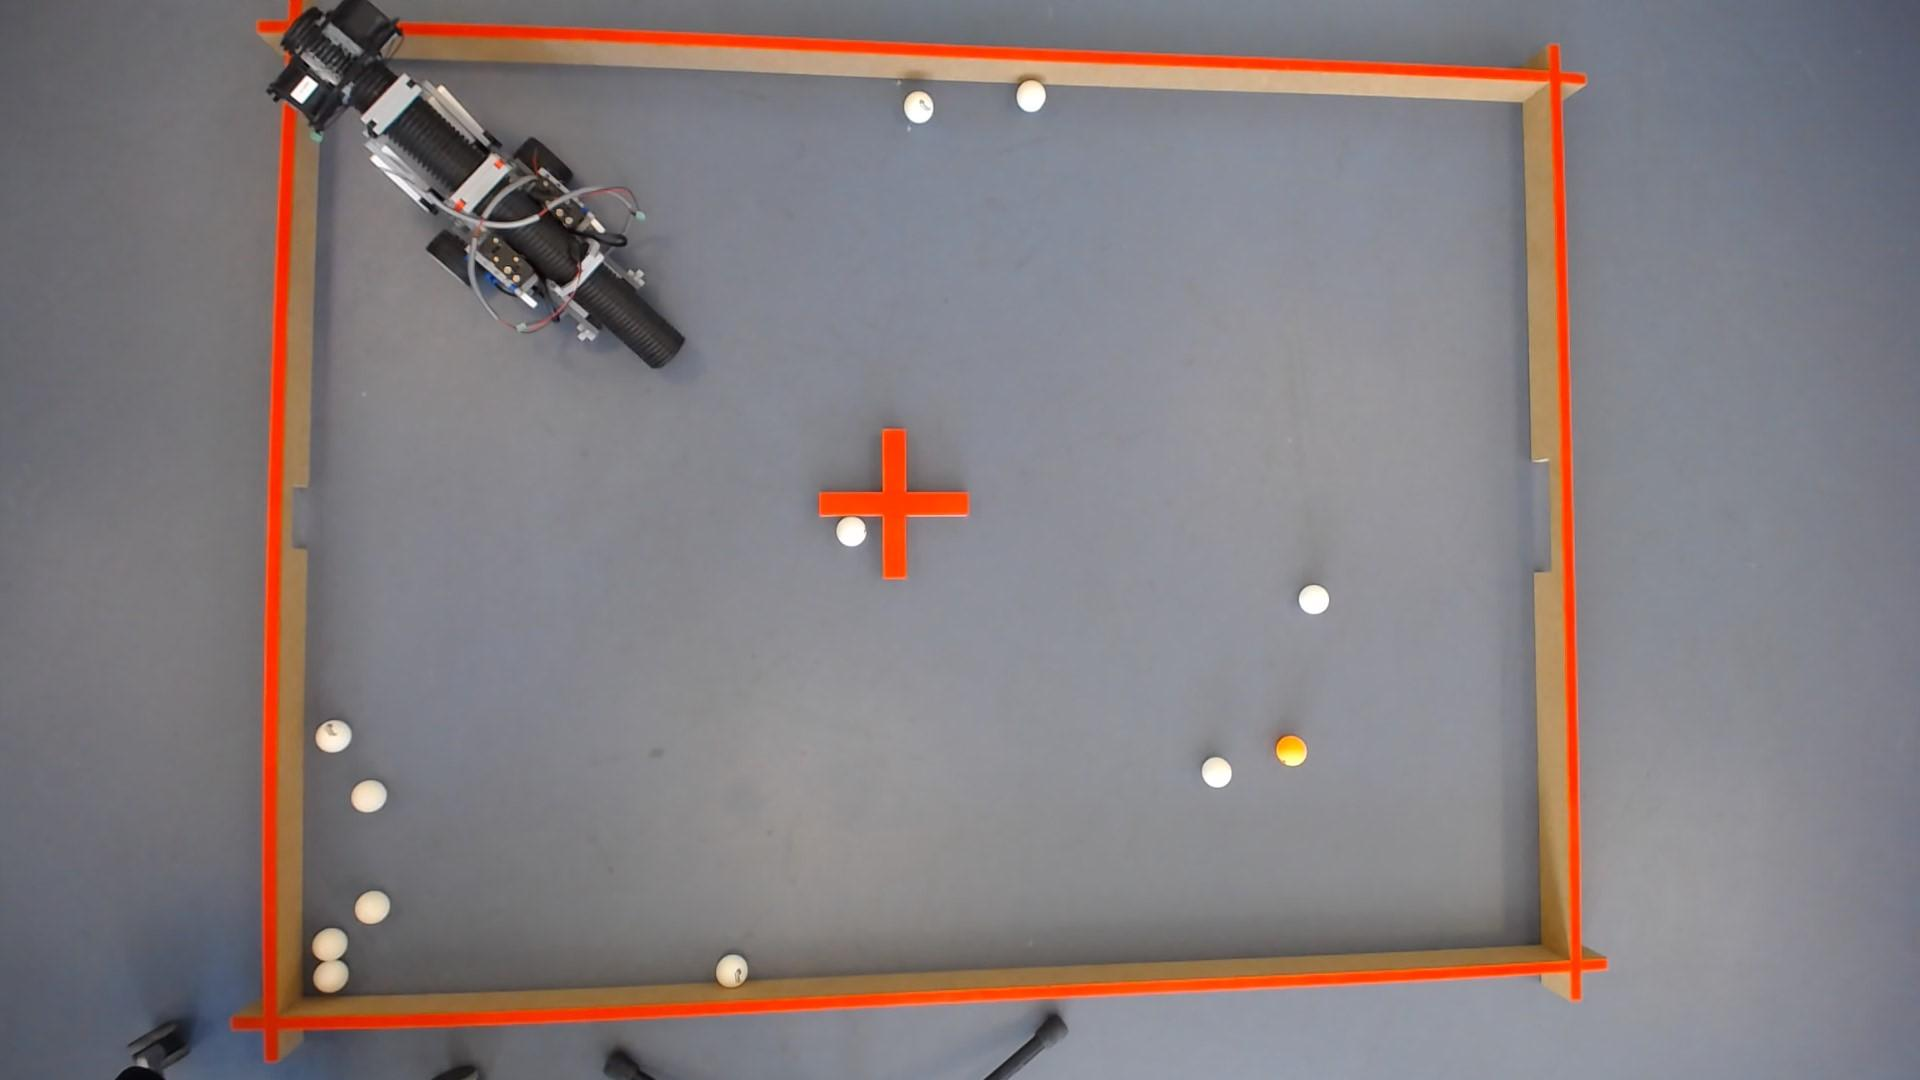orange: (1278, 735, 1308, 766)
robot: (268, 0, 682, 365)
white: (311, 959, 347, 996), (713, 953, 749, 989), (313, 719, 349, 753), (352, 890, 389, 924), (309, 928, 345, 963), (349, 781, 385, 812), (903, 87, 935, 121), (1017, 76, 1047, 109), (1300, 584, 1332, 615), (836, 516, 866, 546), (1203, 757, 1233, 787)
